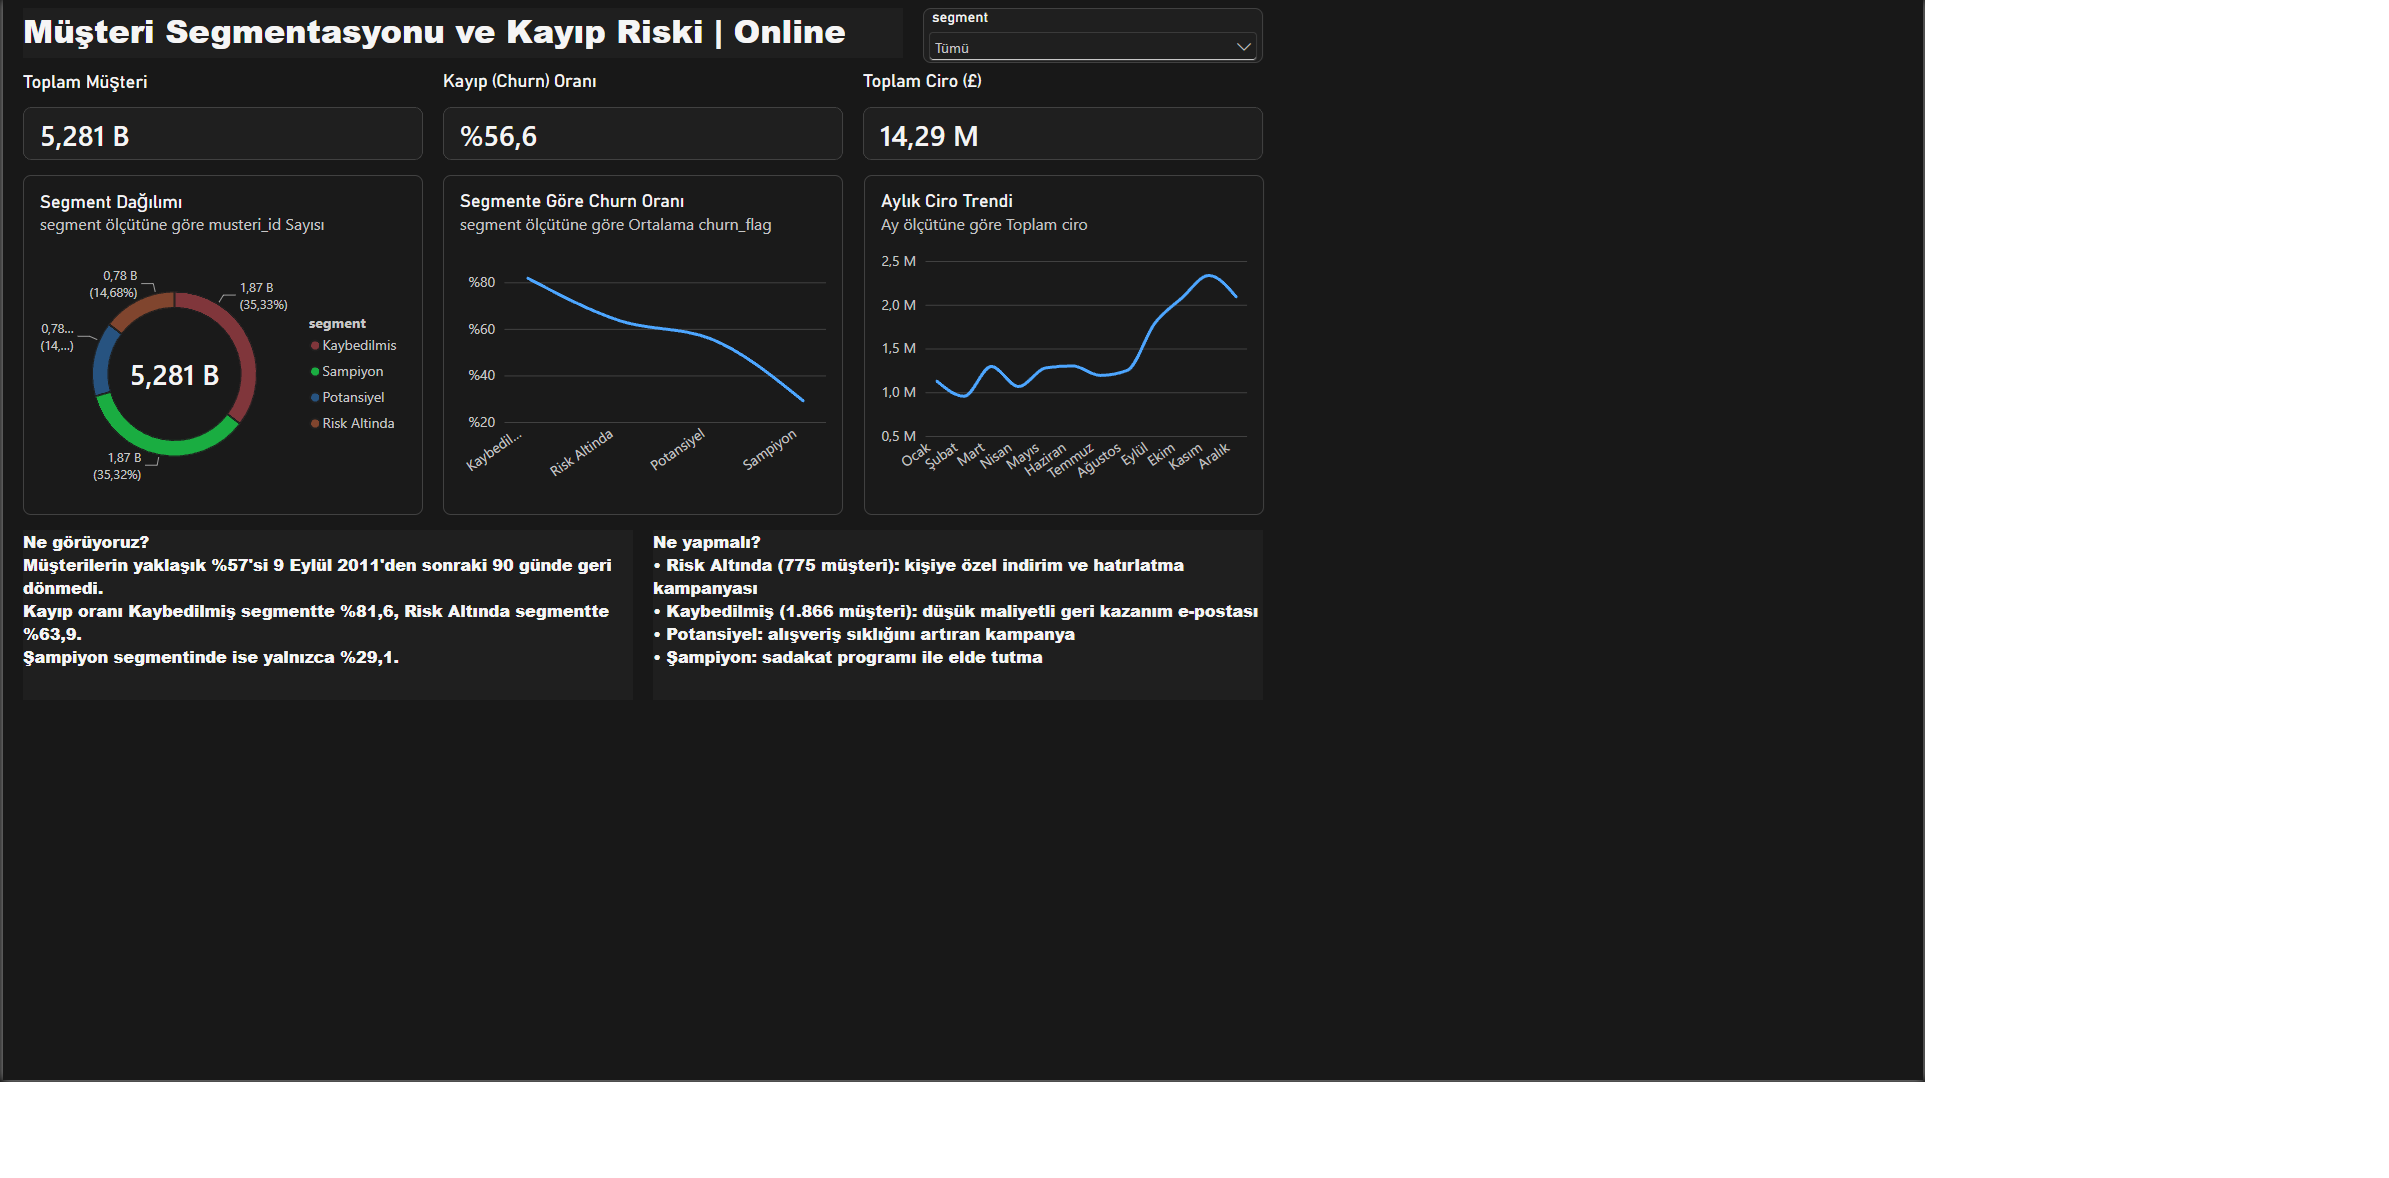

The page's visual inventory and layout, read from the dashboard file:
{"tool":"powerbi","page":{"name":"1. sayfa","canvas":[1920,1080],"ordinal":0},"visuals":[{"type":"cardVisual","title":"Toplam Müşteri","fields":{"Data":["Count(mart_musteri_rfm.musteri_id)"]},"box":[20,70,400,90],"z":0},{"type":"cardVisual","title":"Toplam Ciro (£)","fields":{"Data":["Sum(mart_musteri_rfm.monetary)"]},"box":[860,70,400,90],"z":1000},{"type":"cardVisual","title":"Kayıp (Churn) Oranı","fields":{"Data":["Avg(mart_musteri_rfm.churn_flag)"]},"box":[440,70,400,90],"z":2000},{"type":"donutChart","title":"Segment Dağılımı","fields":{"Category":["mart_musteri_rfm.segment"],"Y":["Count(mart_musteri_rfm.musteri_id)"]},"box":[20,175,400,340],"z":3000},{"type":"lineClusteredColumnComboChart","title":"Segmente Göre Churn Oranı","fields":{"Category":["mart_musteri_rfm.segment"],"Y2":["Avg(mart_musteri_rfm.churn_flag)"]},"box":[440,175,400,340],"z":4000},{"type":"lineChart","title":"Aylık Ciro Trendi","fields":{"Category":["mart_aylik_satis.ay.Variation.Tarih Hiyerarşisi.Ay"],"Y":["Sum(mart_aylik_satis.ciro)"]},"box":[860.6,175,400,340],"z":5000},{"type":"slicer","fields":{"Values":["mart_musteri_rfm.segment"]},"box":[919.5,8,340.8,55],"z":6000},{"type":"textbox","title":"Müşteri Segmentasyonu ve Kayıp Riski | Online Retail II","box":[20,8,880,50],"z":7000},{"type":"textbox","box":[20,530,610,170],"z":8000},{"type":"textbox","box":[650,530,610,170],"z":9000}]}

Visuals, with their boxes on the page's 1920x1080 design canvas (x1, y1, x2, y2). These are canvas units, not pixel positions in the 2389x1178 screenshot, which may show the page scaled, cropped or inside an application window:
"Toplam Müşteri" cardVisual: {"x1": 20, "y1": 70, "x2": 420, "y2": 160}
"Toplam Ciro (£)" cardVisual: {"x1": 860, "y1": 70, "x2": 1260, "y2": 160}
"Kayıp (Churn) Oranı" cardVisual: {"x1": 440, "y1": 70, "x2": 840, "y2": 160}
"Segment Dağılımı" donutChart: {"x1": 20, "y1": 175, "x2": 420, "y2": 515}
"Segmente Göre Churn Oranı" lineClusteredColumnComboChart: {"x1": 440, "y1": 175, "x2": 840, "y2": 515}
"Aylık Ciro Trendi" lineChart: {"x1": 861, "y1": 175, "x2": 1261, "y2": 515}
slicer - mart_musteri_rfm.segment: {"x1": 920, "y1": 8, "x2": 1260, "y2": 63}
"Müşteri Segmentasyonu ve Kayıp Riski | Online Retail II" textbox: {"x1": 20, "y1": 8, "x2": 900, "y2": 58}
textbox: {"x1": 20, "y1": 530, "x2": 630, "y2": 700}
textbox: {"x1": 650, "y1": 530, "x2": 1260, "y2": 700}
